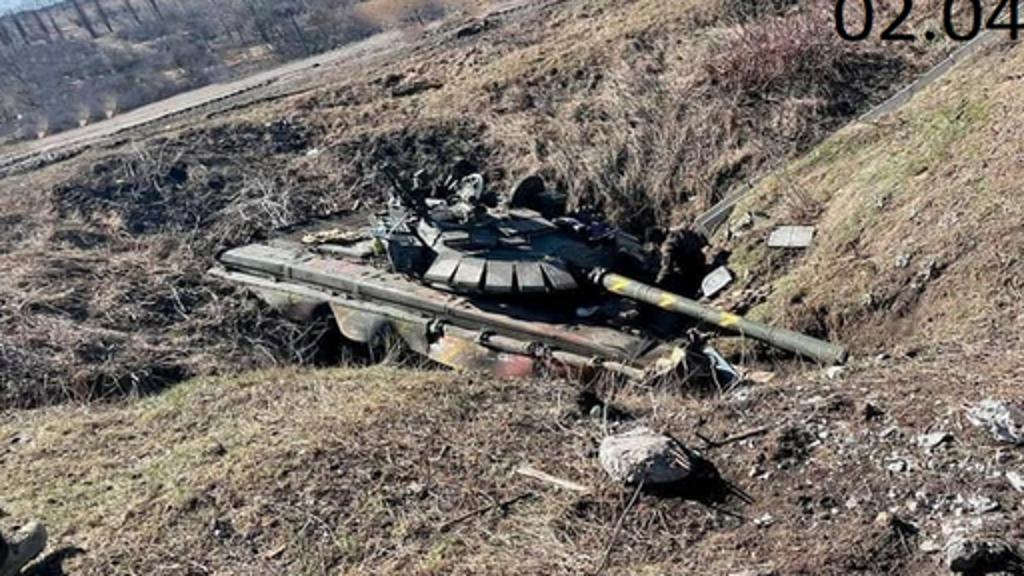TANK: (198, 178, 854, 420)
